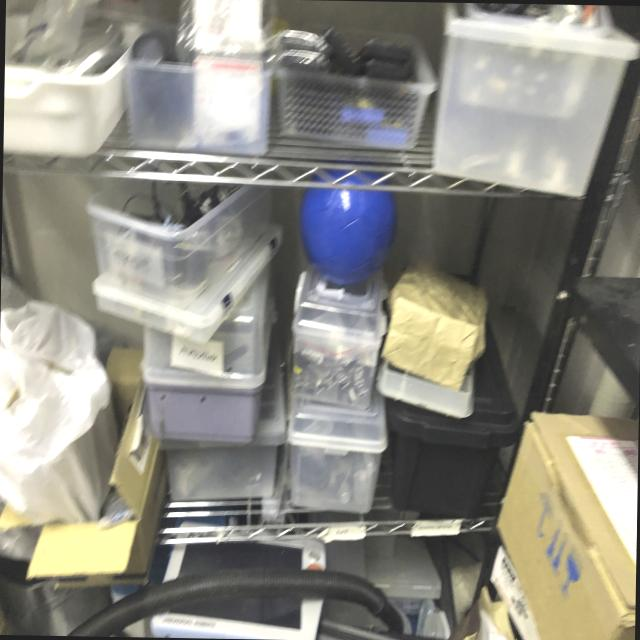blue_ball: (299, 172, 390, 290)
